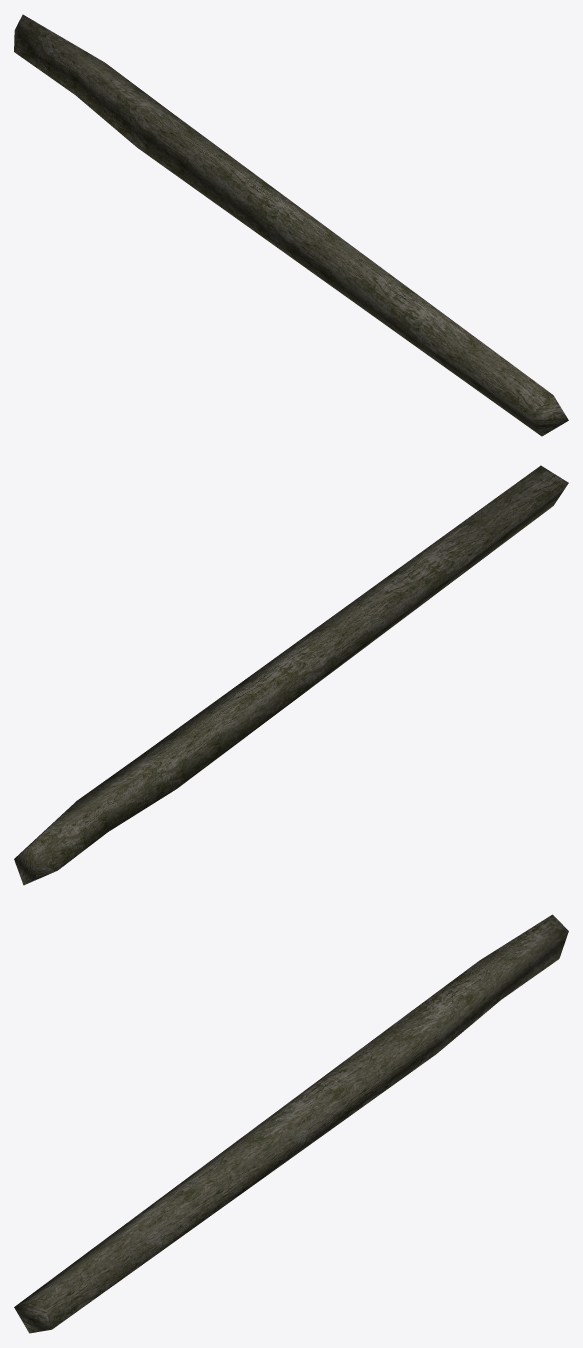
The model's file is TI_Pillar_05.fbx.
The picture shows the model from 3 angles, top to bottom: view 1: azimuth 30°, elevation 25°; view 2: azimuth 150°, elevation 25°; view 3: azimuth 330°, elevation 25°; orthographic projection.
Visible parts, largest first — view 1: TI_Pillar_05; view 2: TI_Pillar_05; view 3: TI_Pillar_05.
Boxes of the visible parts, x1,y1,x2,y2 form: TI_Pillar_05: (14, 14, 568, 436); TI_Pillar_05: (14, 465, 568, 885); TI_Pillar_05: (14, 914, 568, 1333).
Size of the model in its own units: 0.5035 by 0.5027 by 11.47.
